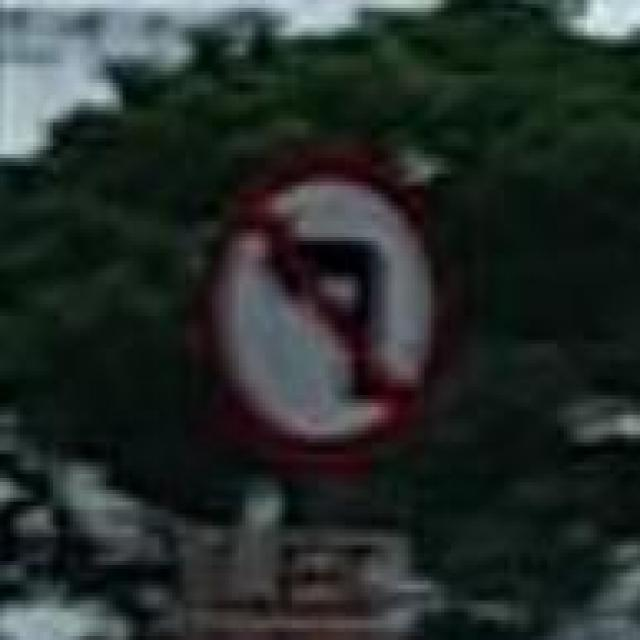traffic sign: (216, 166, 452, 458)
